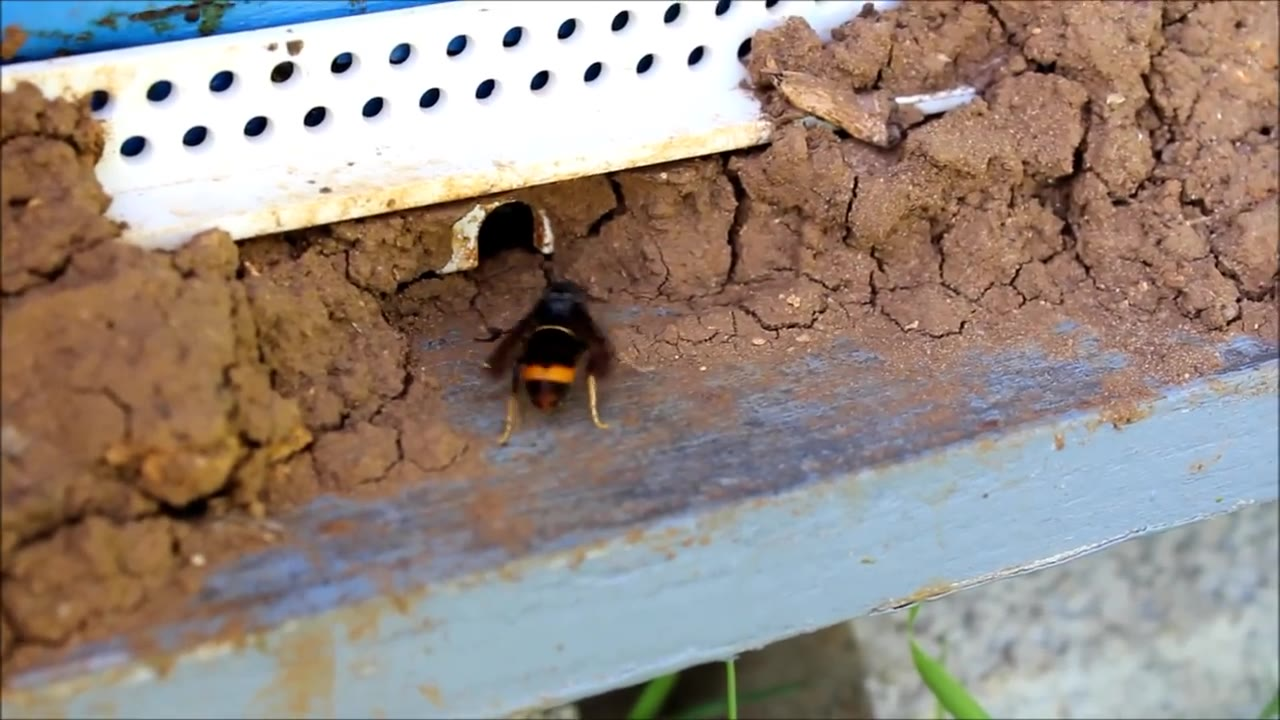hornet: (510, 277, 620, 445)
